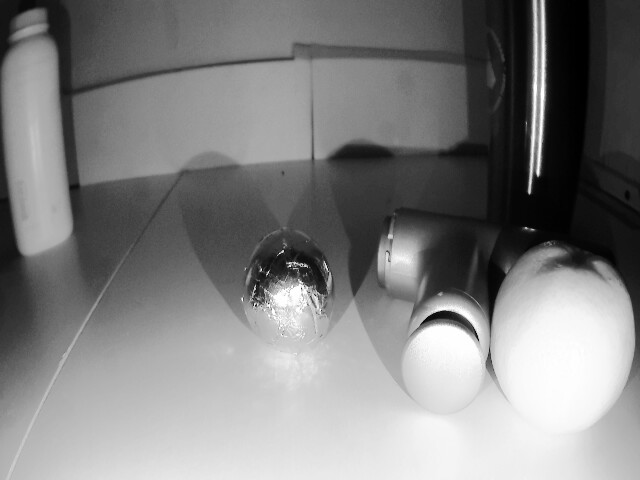black: (231, 229, 337, 368)
